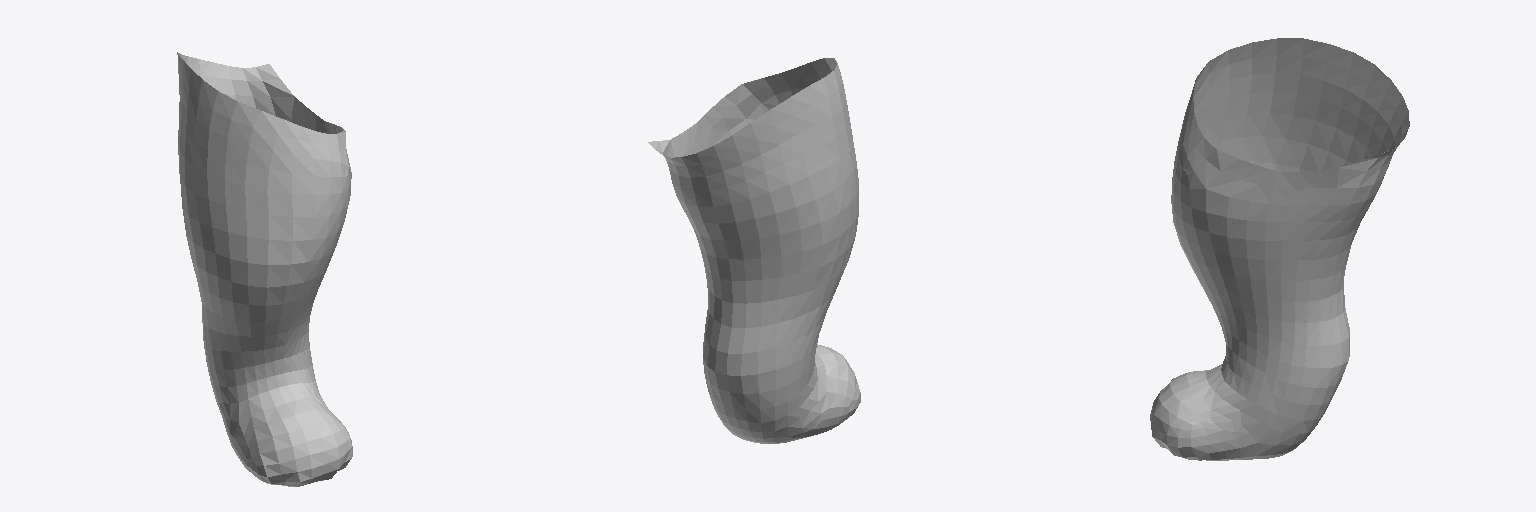
The model's file is rightleg.obj.
3 views of the same model, side by side, from view 1: azimuth 30°, elevation 25°; view 2: azimuth 150°, elevation 25°; view 3: azimuth 270°, elevation 25° (orthographic).
Parts seen in each view (by area): view 1: cat_in_bed-RETOP4.003; view 2: cat_in_bed-RETOP4.003; view 3: cat_in_bed-RETOP4.003.
Boxes of the visible parts, x1,y1,x2,y2 form: cat_in_bed-RETOP4.003: [177, 52, 352, 486]; cat_in_bed-RETOP4.003: [648, 58, 860, 443]; cat_in_bed-RETOP4.003: [1150, 38, 1409, 460].
Size of the model in its own units: 0.6032 by 1.59 by 0.975.